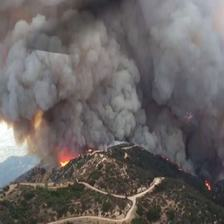fire: (27, 85, 101, 167)
